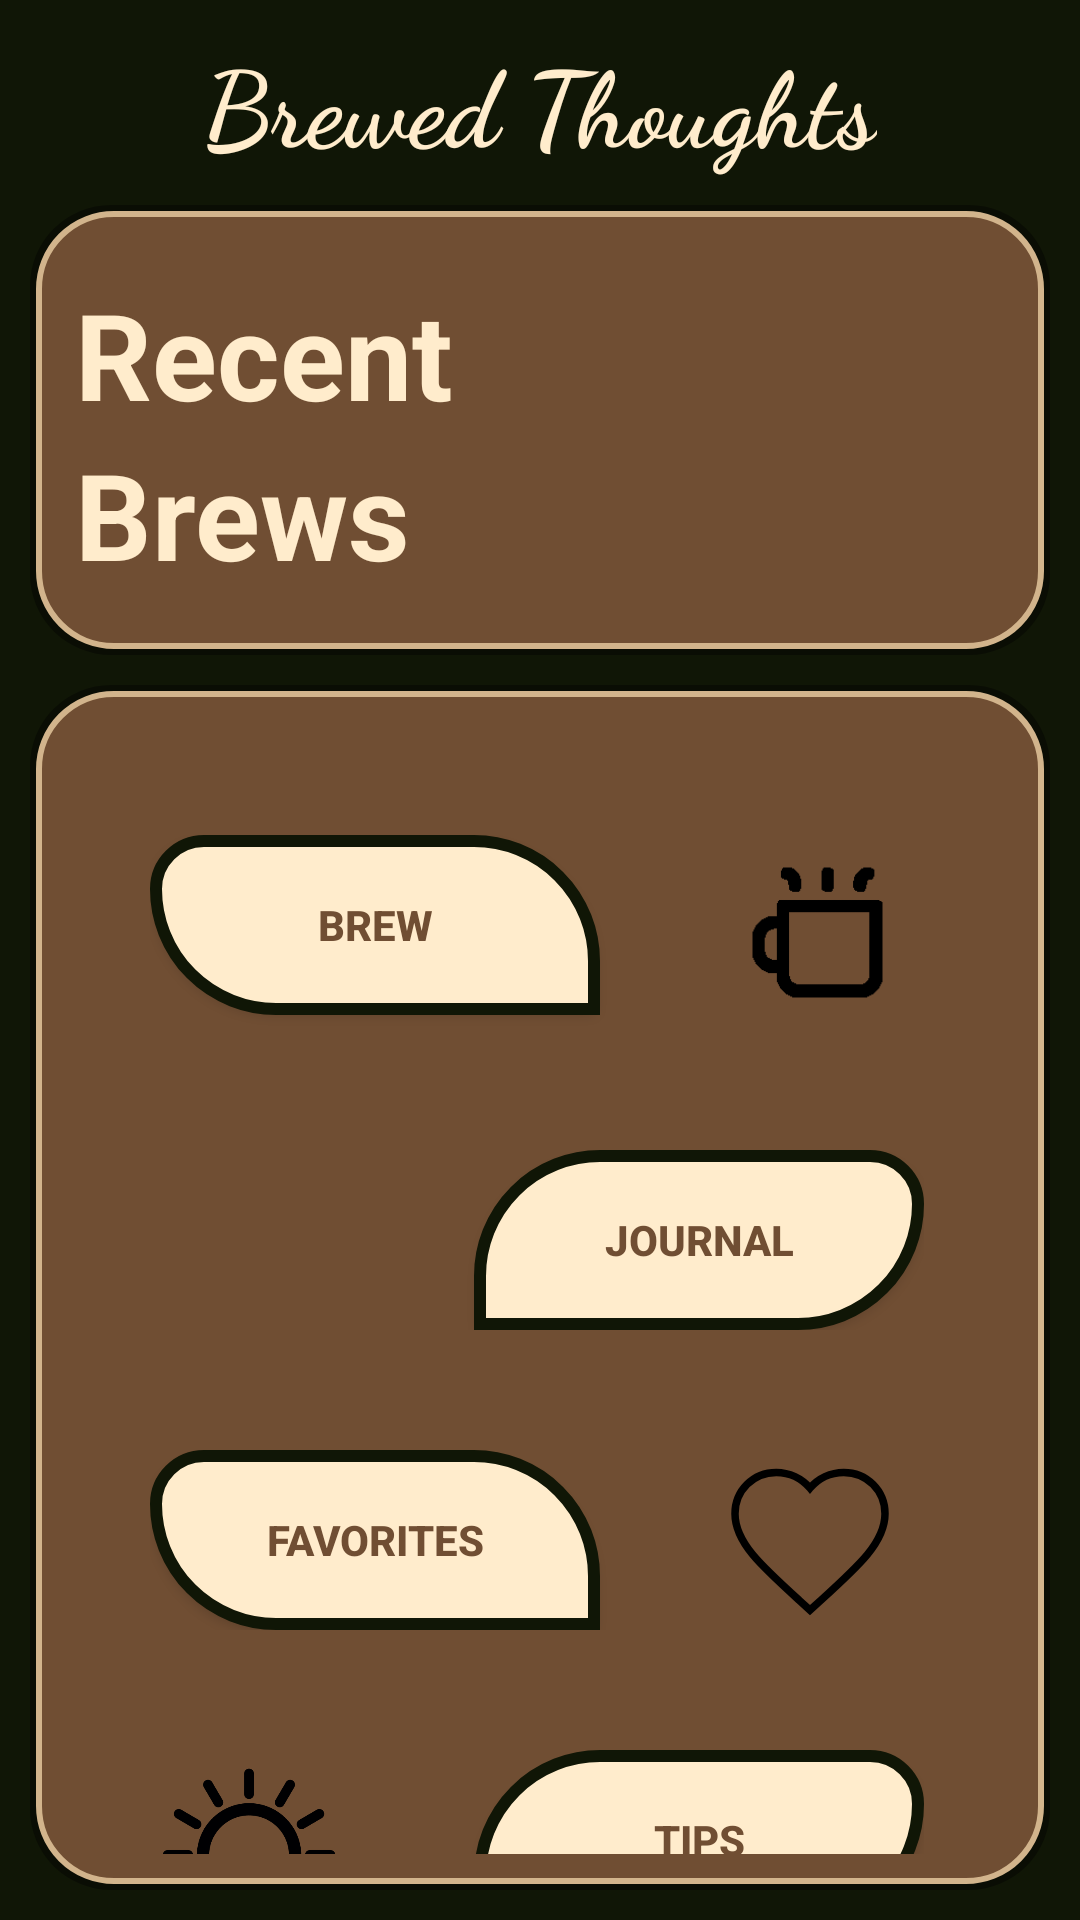

Icons on this 1080×1920 Android screen, each with the point to tap as point (x, y):
coffee mug: point (817, 932)
heart unfaved: point (810, 1541)
